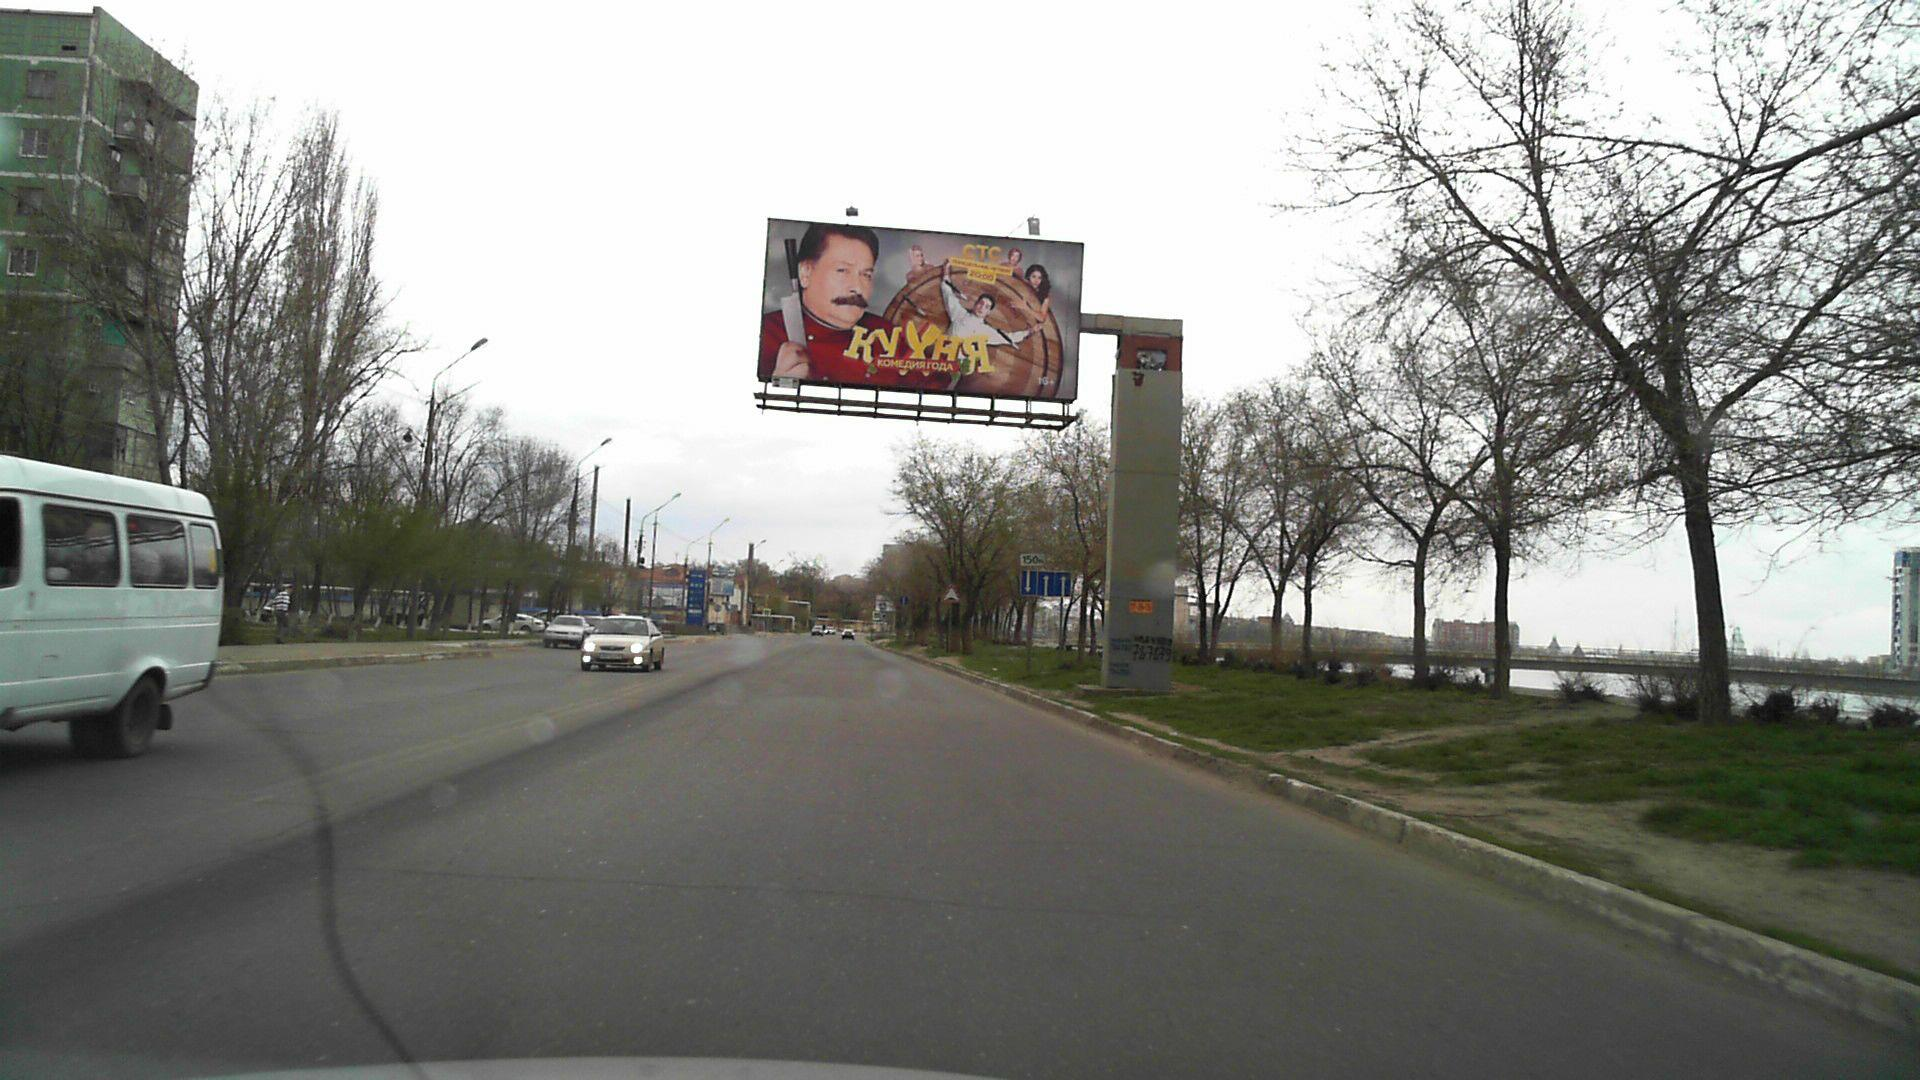5_15_7: (1017, 568, 1072, 597)
